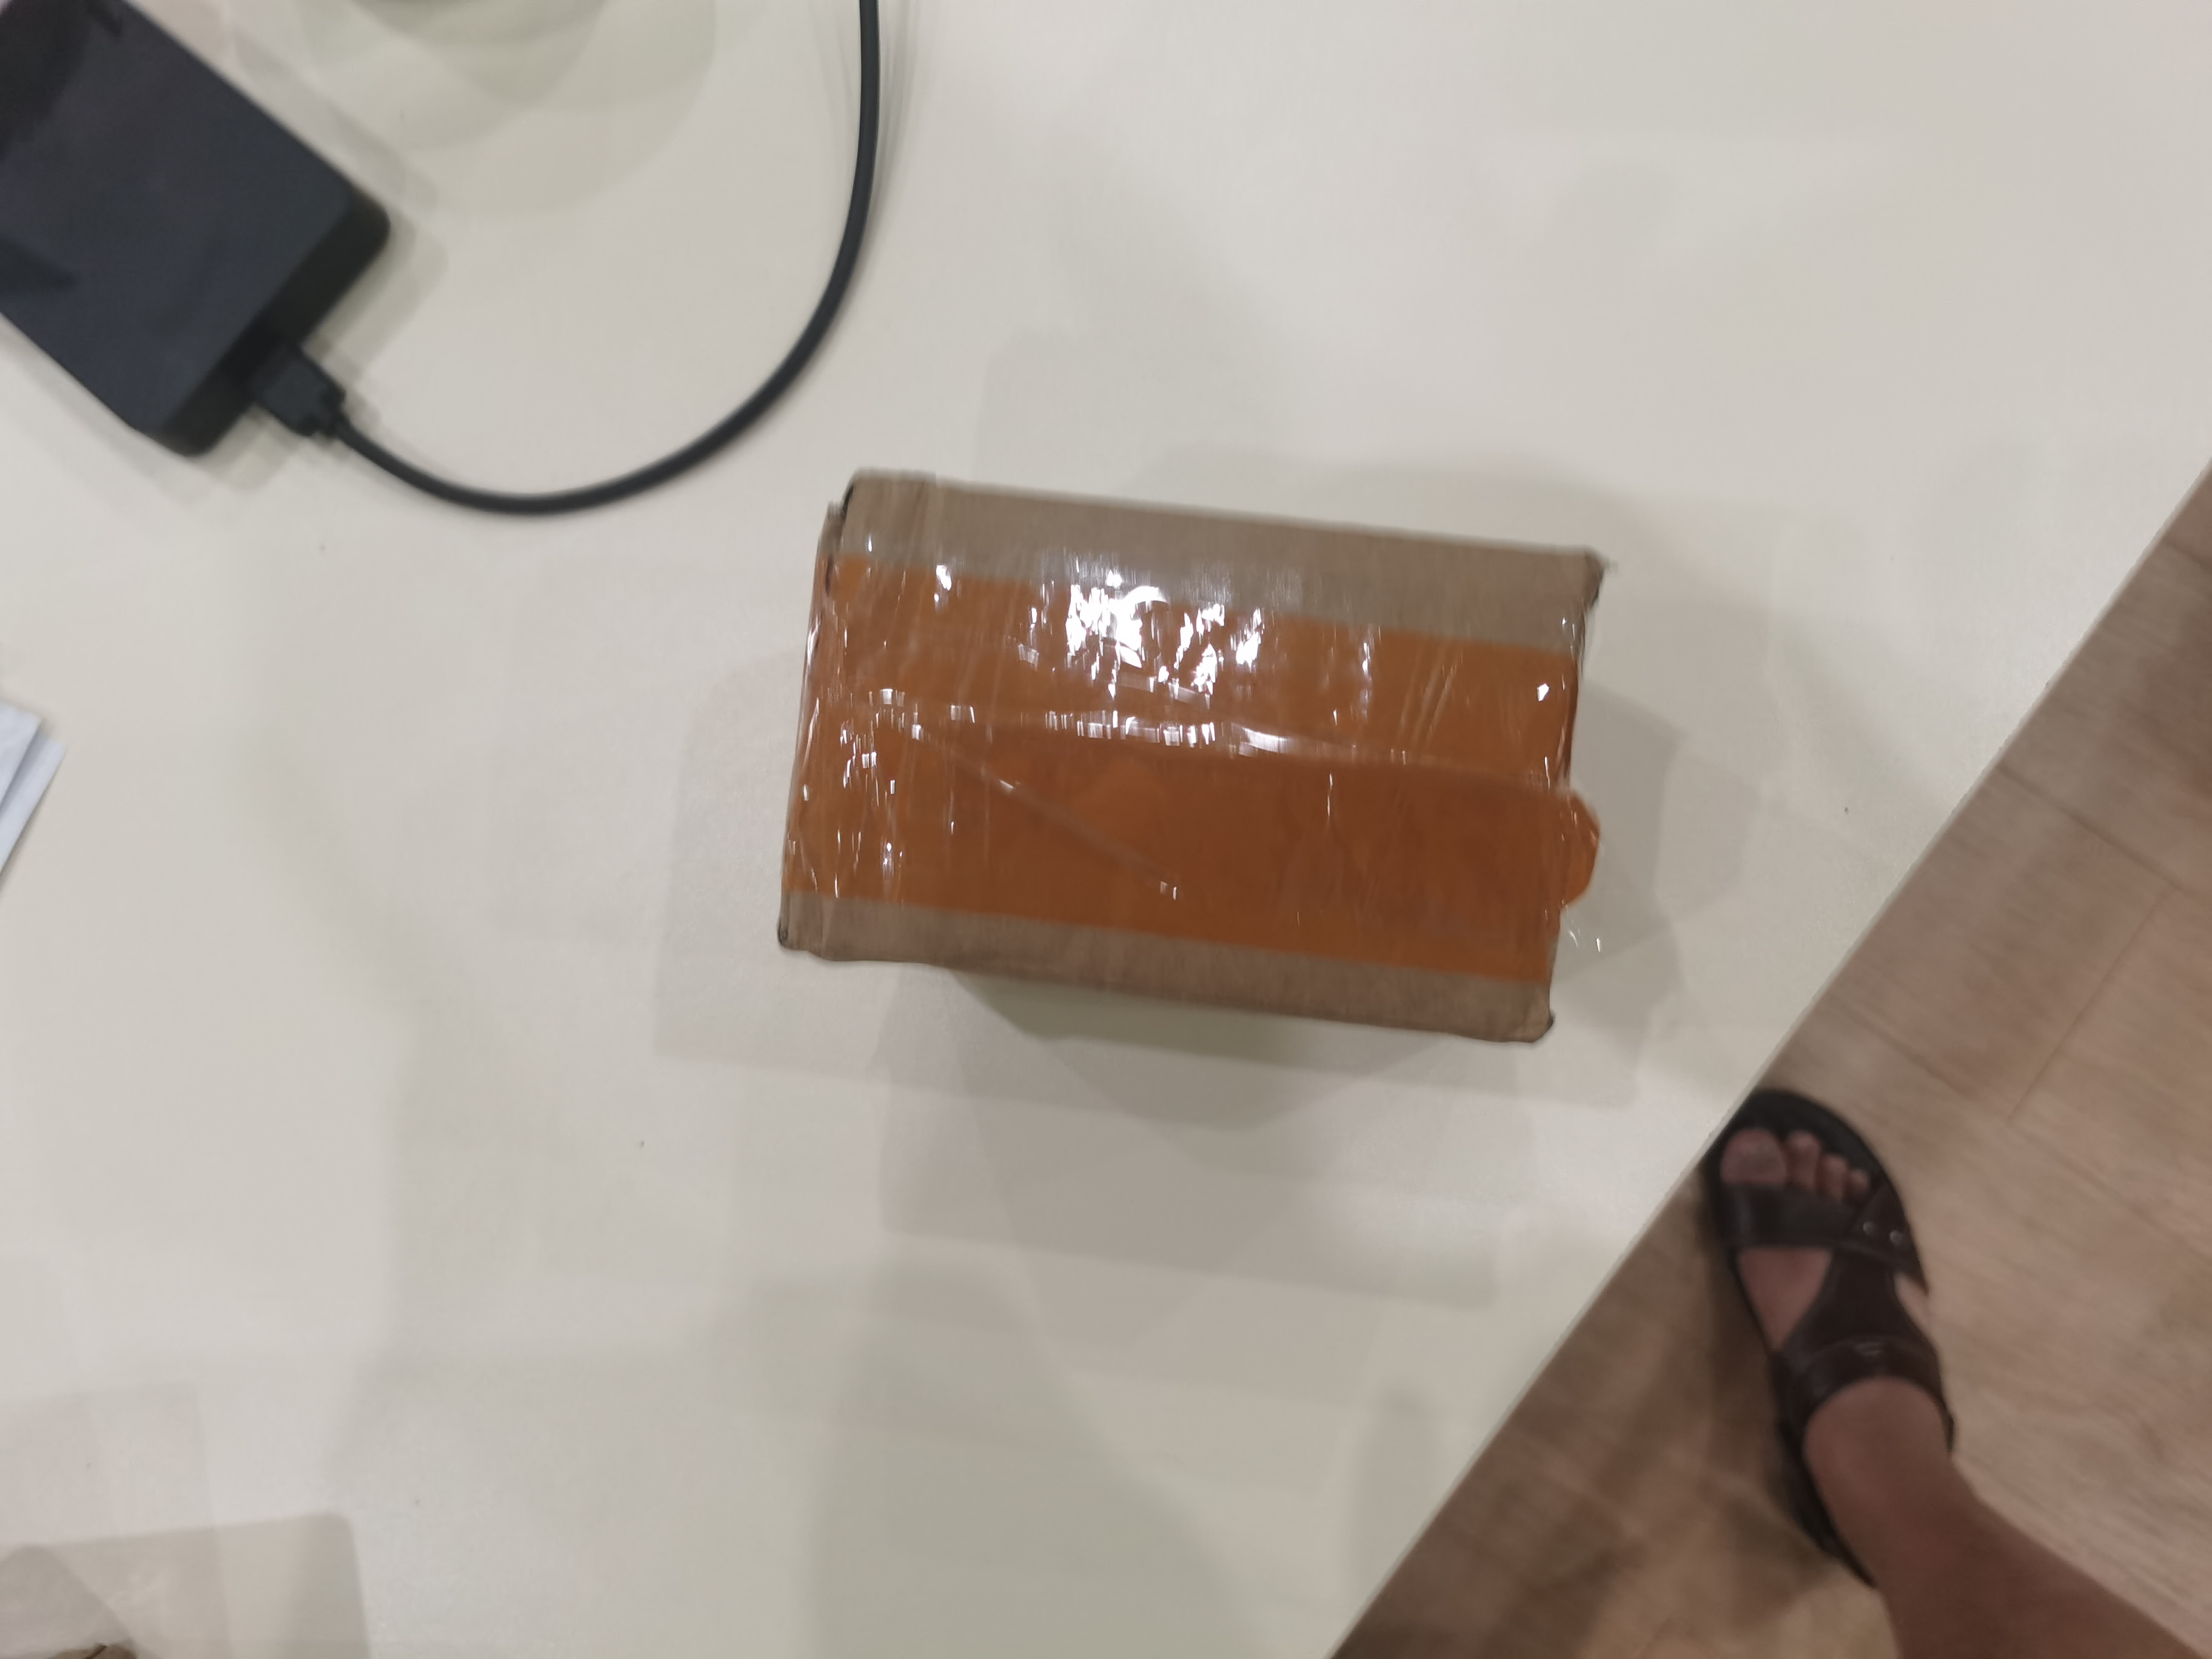box: (743, 446, 1664, 1103)
